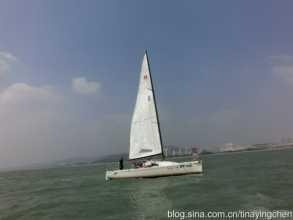fanchuan: (93, 44, 205, 185)
